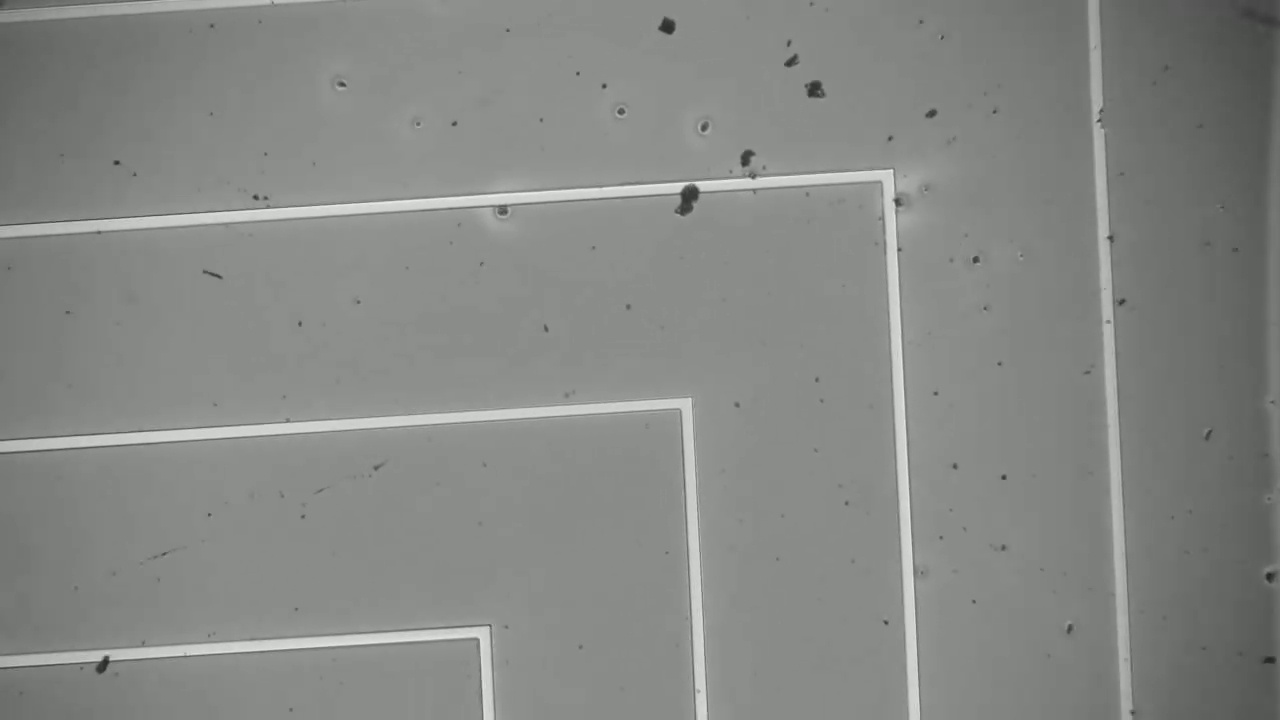edge_bite: (1085, 94, 1113, 138)
stains_enbedded: (671, 171, 705, 223), (83, 643, 117, 687), (875, 188, 912, 218)
